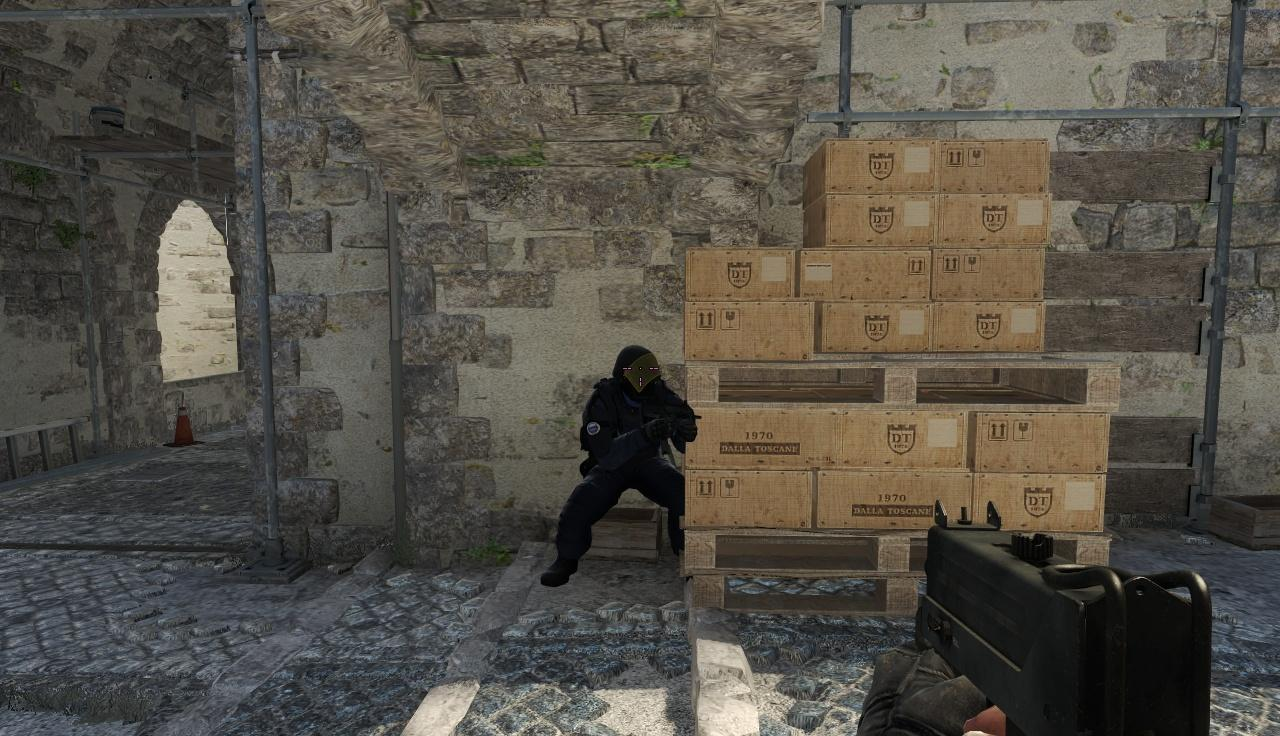ct: (581, 342, 679, 584)
cthead: (614, 345, 661, 392)
rifle: (918, 501, 1222, 736)
